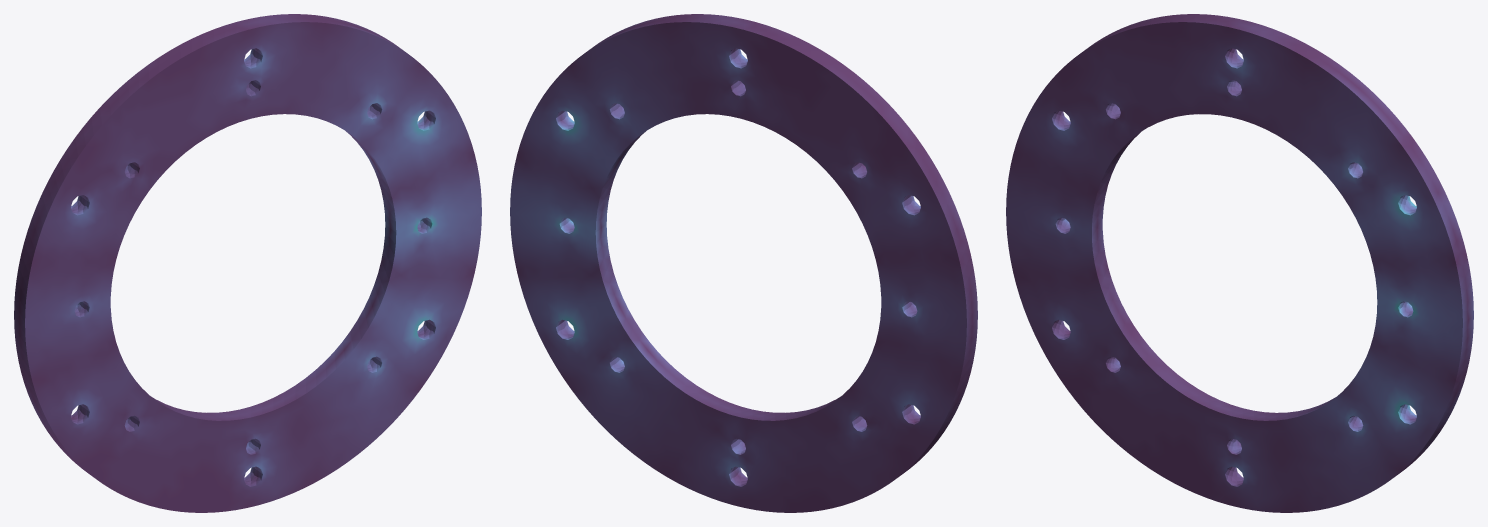
File: P3_motor_plate.glb
3 views of the same model, side by side, from view 1: azimuth 30°, elevation 25°; view 2: azimuth 150°, elevation 25°; view 3: azimuth 330°, elevation 25° (orthographic).
Visible parts, largest first — view 1: geometry_0; view 2: geometry_0; view 3: geometry_0.
Part boxes in pixels (<box>): geometry_0: <box>14,14,481,512</box>; geometry_0: <box>510,14,977,512</box>; geometry_0: <box>1006,14,1473,512</box>.
Bounding box in the file's own units: 0.24 × 0.24 × 0.01.
